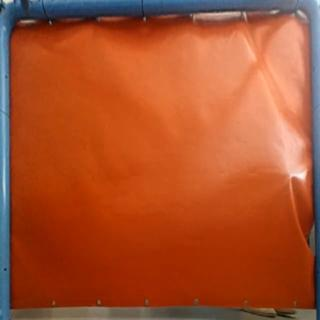Hit-hRxx: (284, 168, 302, 182)
